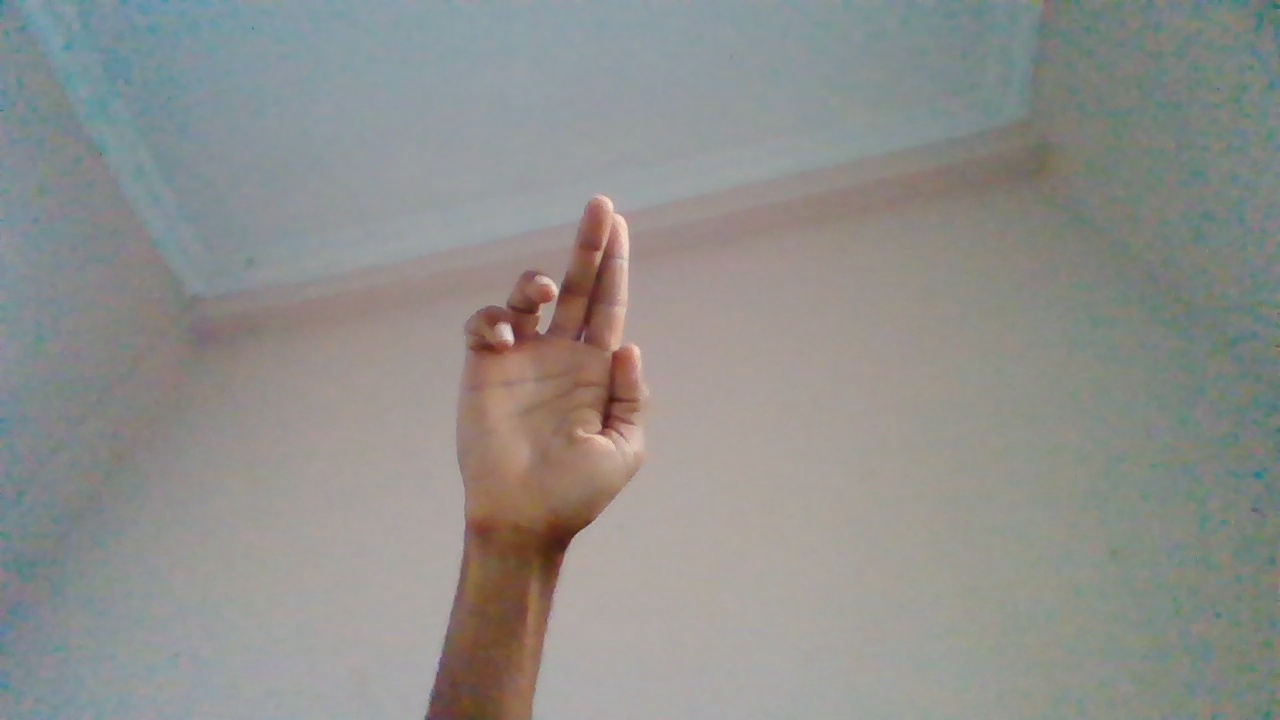gne: (452, 196, 653, 562)
